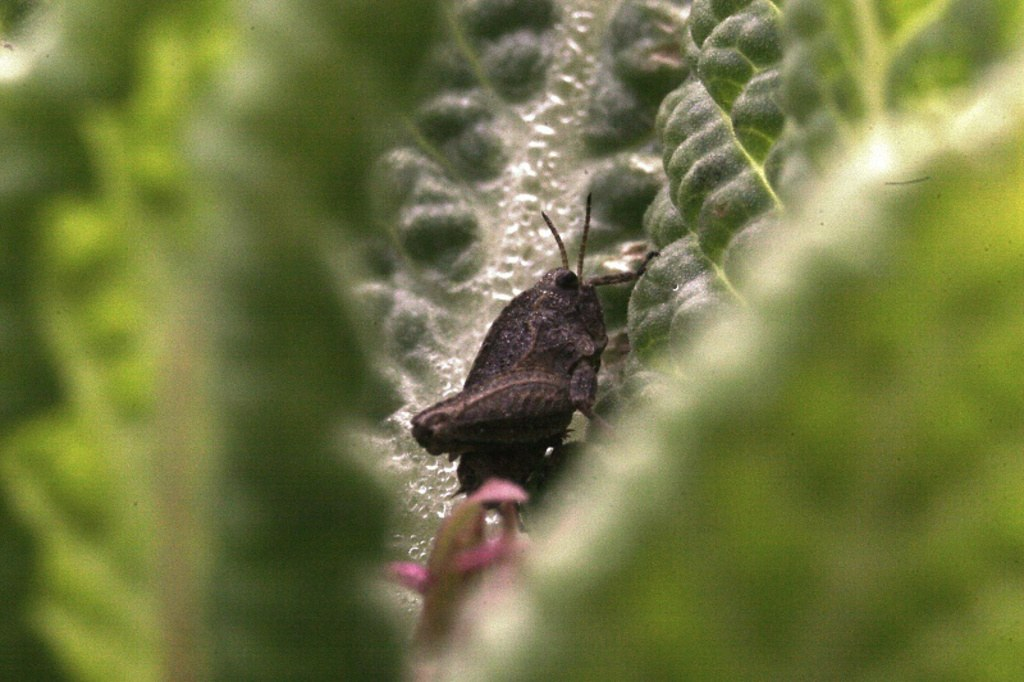insect: (0, 0, 1023, 681), (404, 196, 666, 521)
